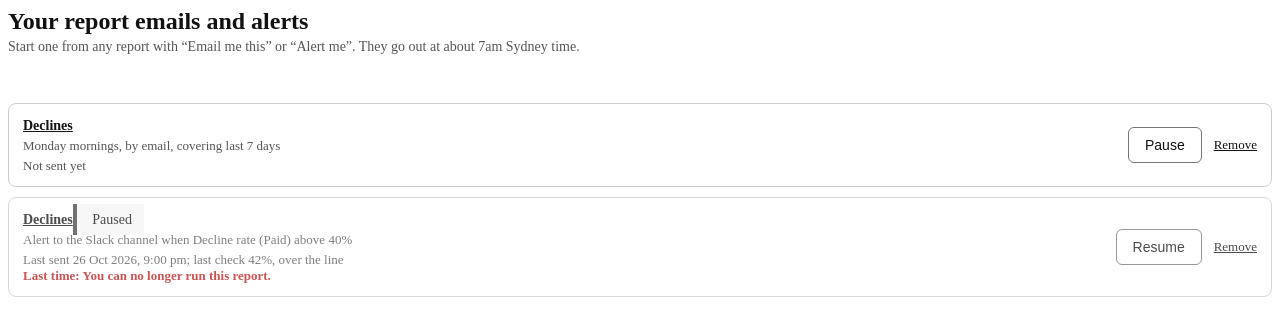
Test case: SubscriptionsPage › pauses, resumes and removes
Click the button with aria-label "Pause Declines" at (1165, 145), box [1128, 127, 1202, 163]
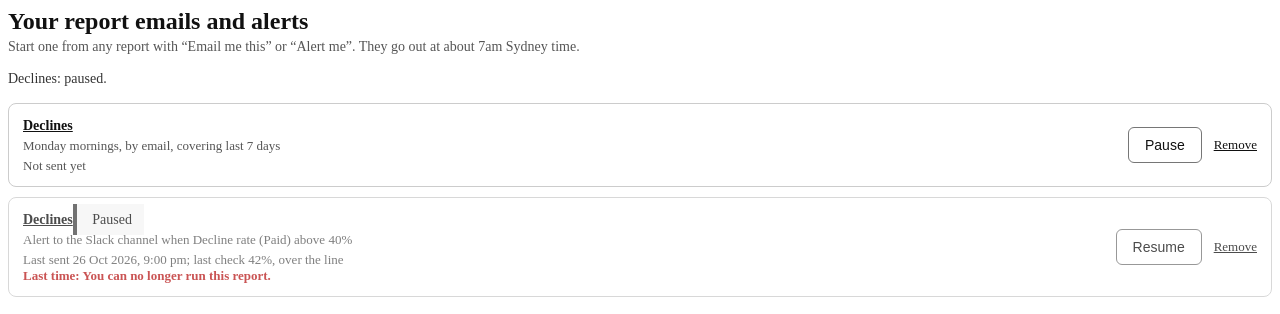
Expected: the text "Declines: paused." is shown, [8, 71, 107, 86]
Click the button with aria-label "Resume Declines" at (1159, 247), box [1116, 229, 1202, 265]
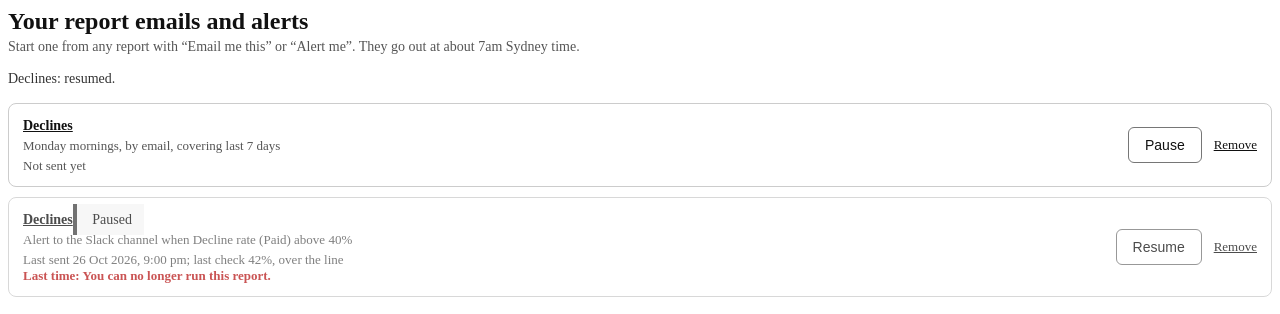
Expected: the text "Declines: resumed." is shown, [8, 71, 115, 86]
Click the button with aria-label "Remove Declines" at (1235, 145), box [1214, 137, 1257, 153]
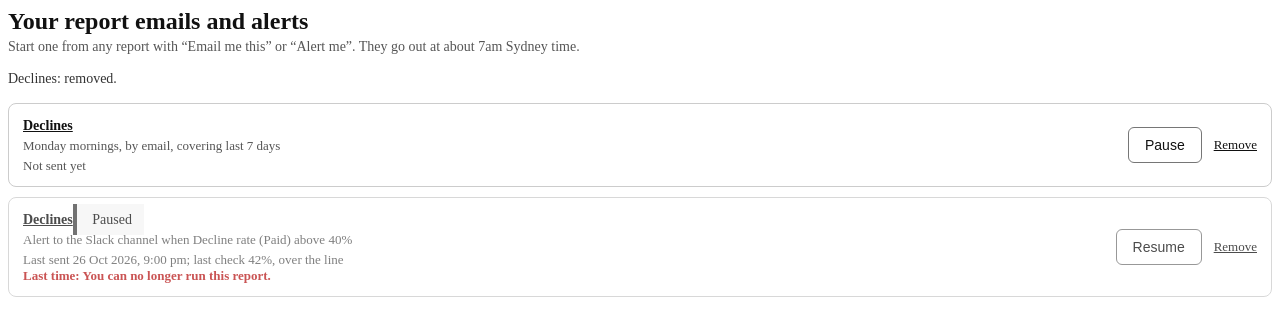
Expected: the text "Declines: removed." is shown, [8, 71, 117, 86]
